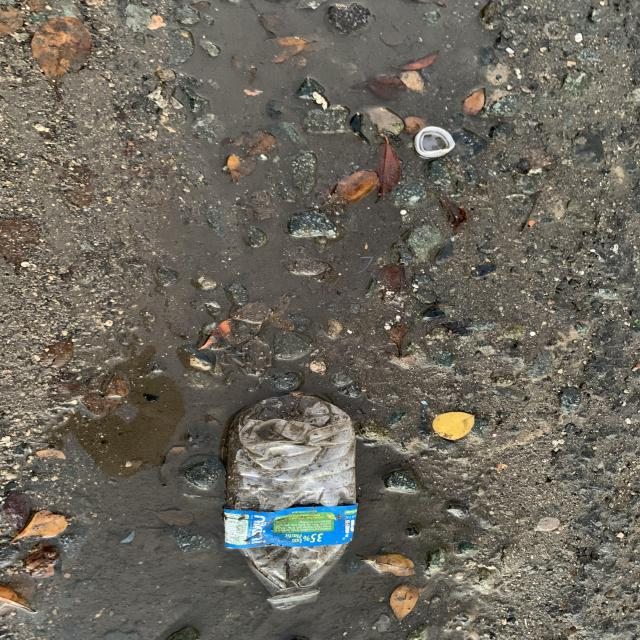litter: (222, 394, 358, 609), (418, 133, 450, 155)
